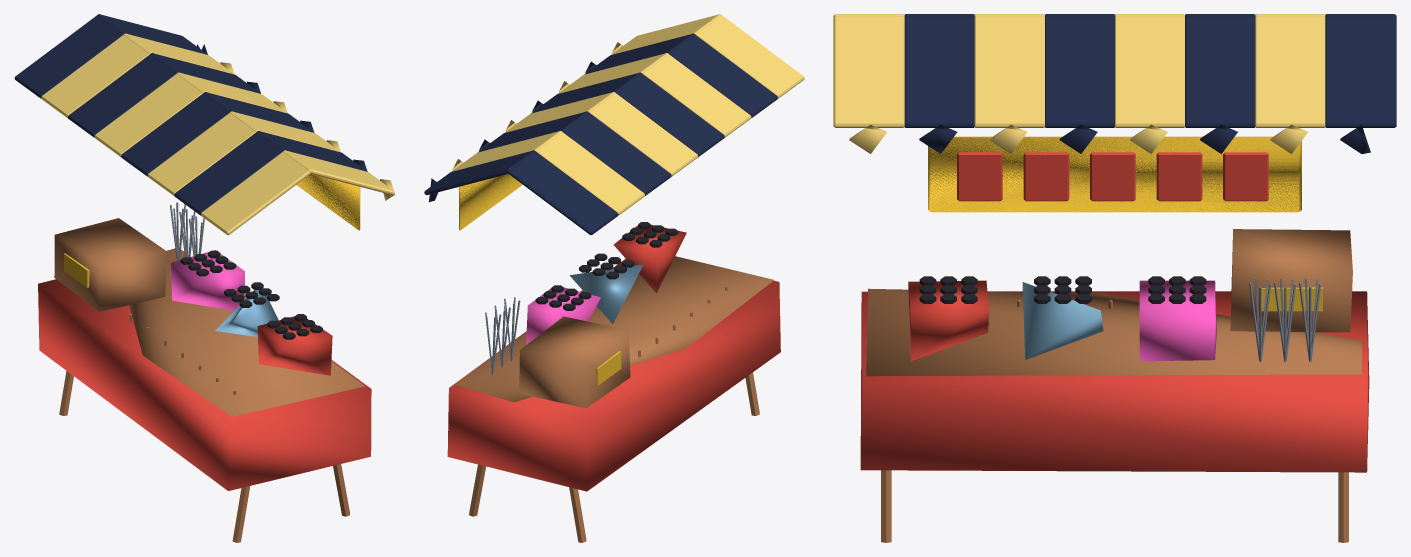
The model's file is fireworks_stand.glb.
3 renders of one model, left to right at view 1: azimuth 30°, elevation 25°; view 2: azimuth 150°, elevation 25°; view 3: azimuth 270°, elevation 25°, orthographic. The views are drawn at different scales.
Visible parts, largest first — view 1: fireworks_stand; view 2: fireworks_stand; view 3: fireworks_stand.
Part boxes in pixels (<box>): fireworks_stand: <box>14,14,395,542</box>; fireworks_stand: <box>424,14,804,542</box>; fireworks_stand: <box>833,14,1396,542</box>.
Size of the model in its own units: 1.29 by 2.61 by 2.71.
1 material, 1 textured.
